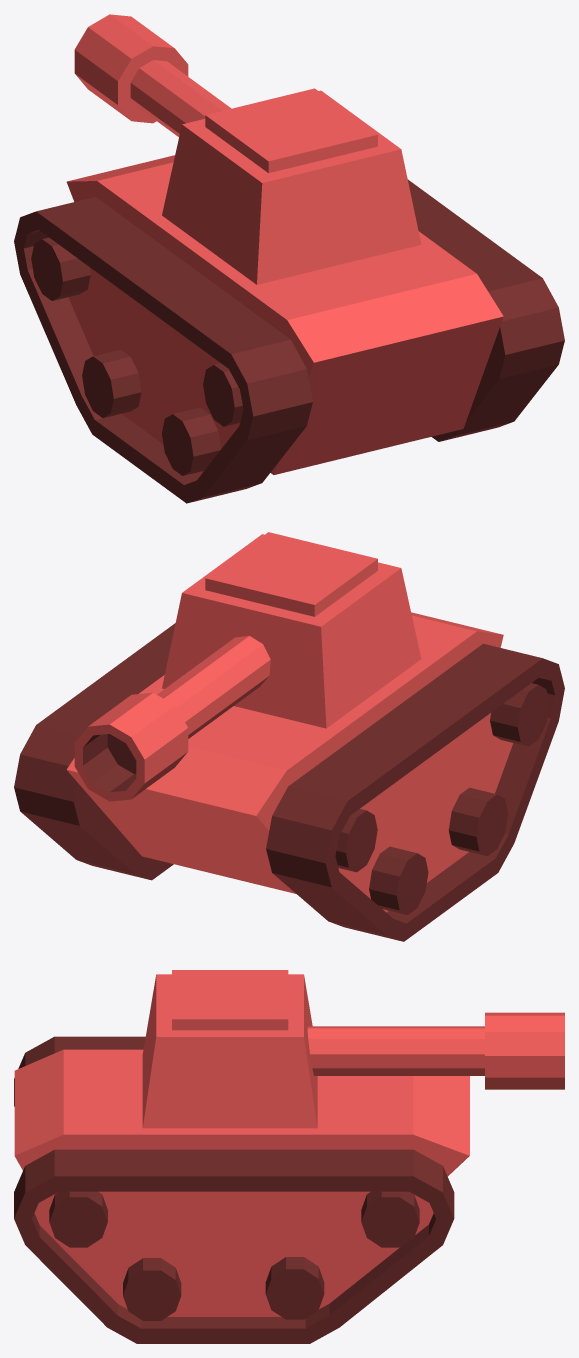
The model's file is Normal_Shooting_Enemy.fbx.
The picture shows the model from 3 angles, top to bottom: view 1: azimuth 30°, elevation 25°; view 2: azimuth 150°, elevation 25°; view 3: azimuth 270°, elevation 25°; orthographic projection. The views are drawn at different scales.
Parts seen in each view (by area): view 1: Body, Barrel; view 2: Body, Barrel; view 3: Body, Barrel.
Boxes of the visible parts, box(x1,y1,x2,y2) form: Body: box(14, 155, 564, 503); Barrel: box(74, 14, 421, 284); Body: box(14, 612, 564, 941); Barrel: box(74, 532, 421, 801); Body: box(14, 1036, 469, 1343); Barrel: box(142, 970, 564, 1128).
Size of the model in its own units: 59.94 by 55.24 by 98.81.
